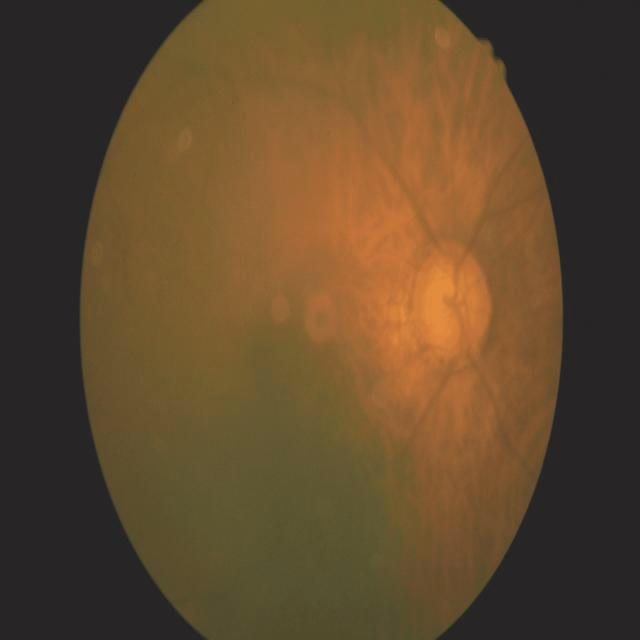cup: (423, 261, 477, 352)
disk: (411, 242, 493, 366)
